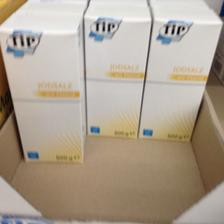Gewuerze: (0, 12, 84, 163), (137, 5, 223, 141), (83, 3, 153, 138)
